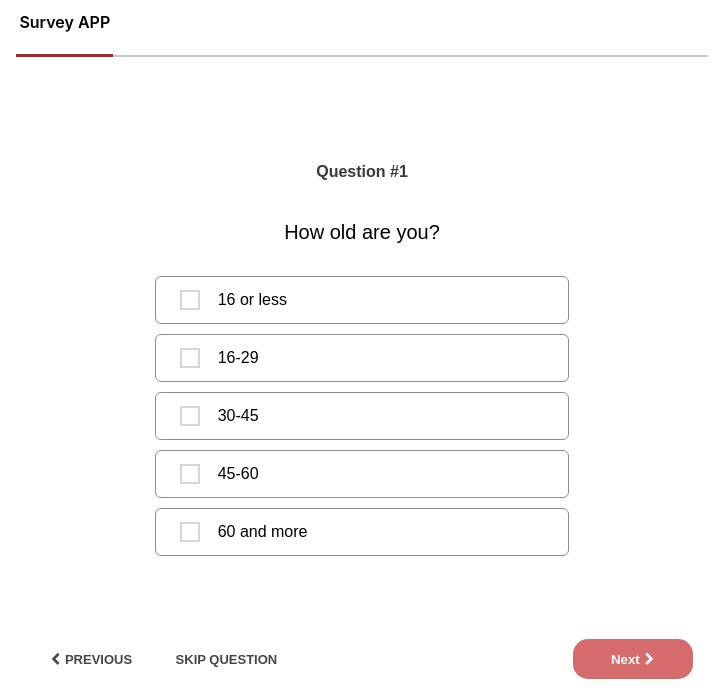
skip Question button should be disabled when an option is selected
Click the checkbox labelled "16-29" at (190, 358), box [180, 348, 200, 368]
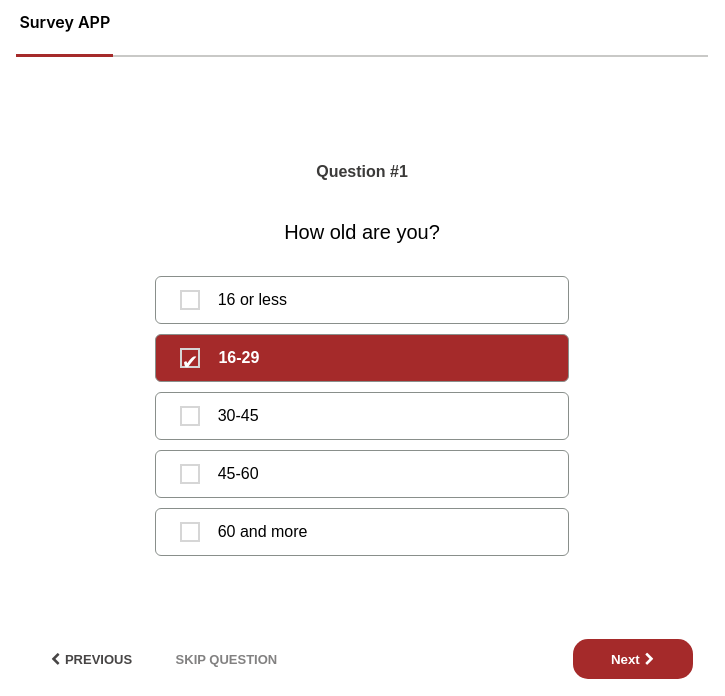
Expected: the button "SKIP QUESTION" is disabled, [166, 639, 286, 679]
